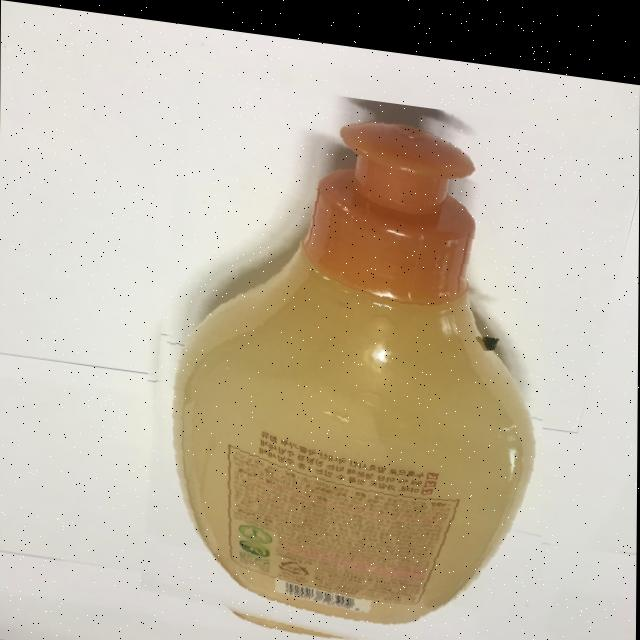litter: (139, 66, 544, 640), (256, 104, 464, 319)
